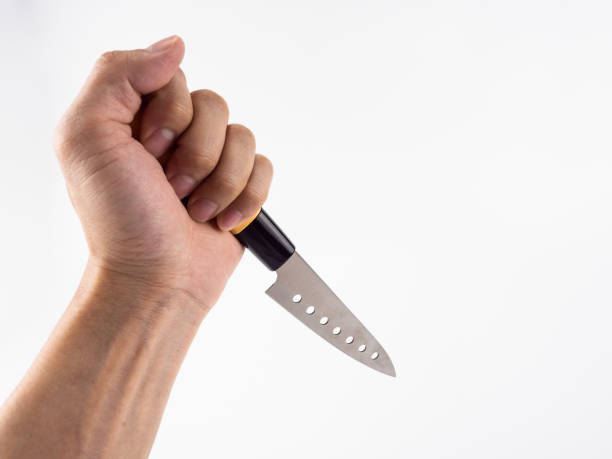knife: (164, 170, 405, 382)
